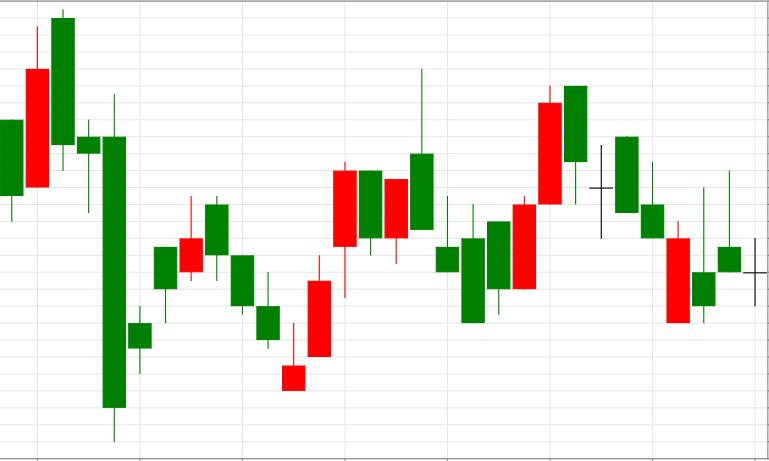inverse_hammer_rise: (564, 86, 716, 323), (206, 195, 306, 391)
